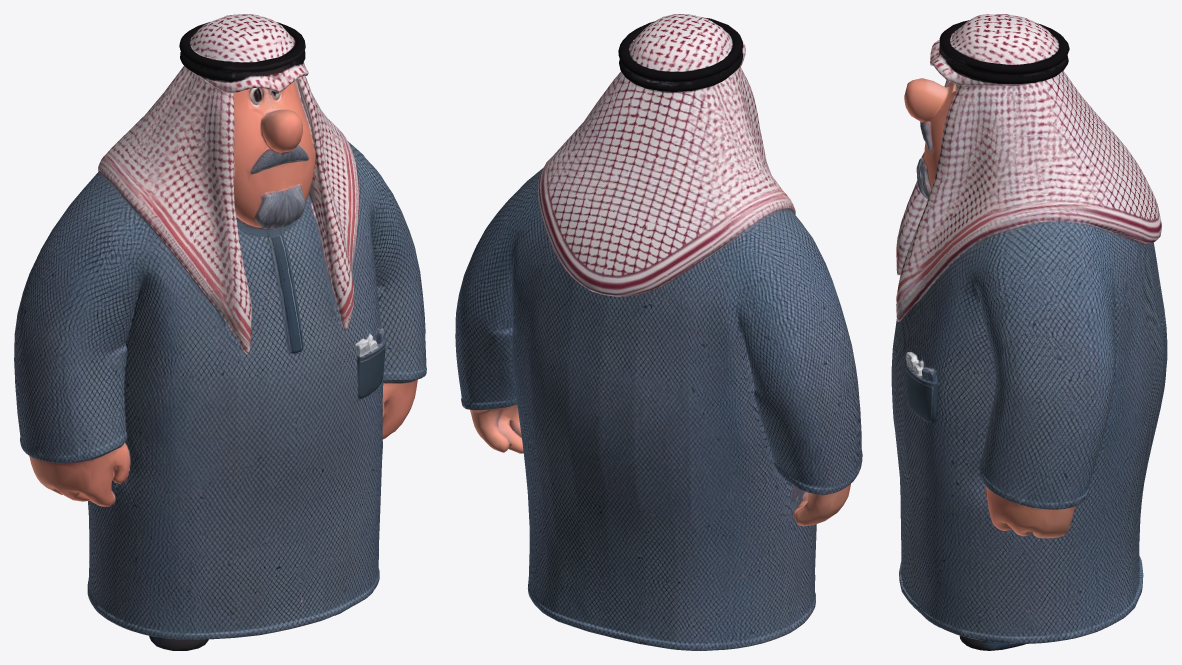
File: blue_thobe.glb
3 views of the same model, side by side, from view 1: azimuth 30°, elevation 25°; view 2: azimuth 150°, elevation 25°; view 3: azimuth 270°, elevation 25° (orthographic). The views are drawn at different scales.
Size of the model in its own units: 1.29 by 1.9 by 0.8129.
1 material, 1 textured.
